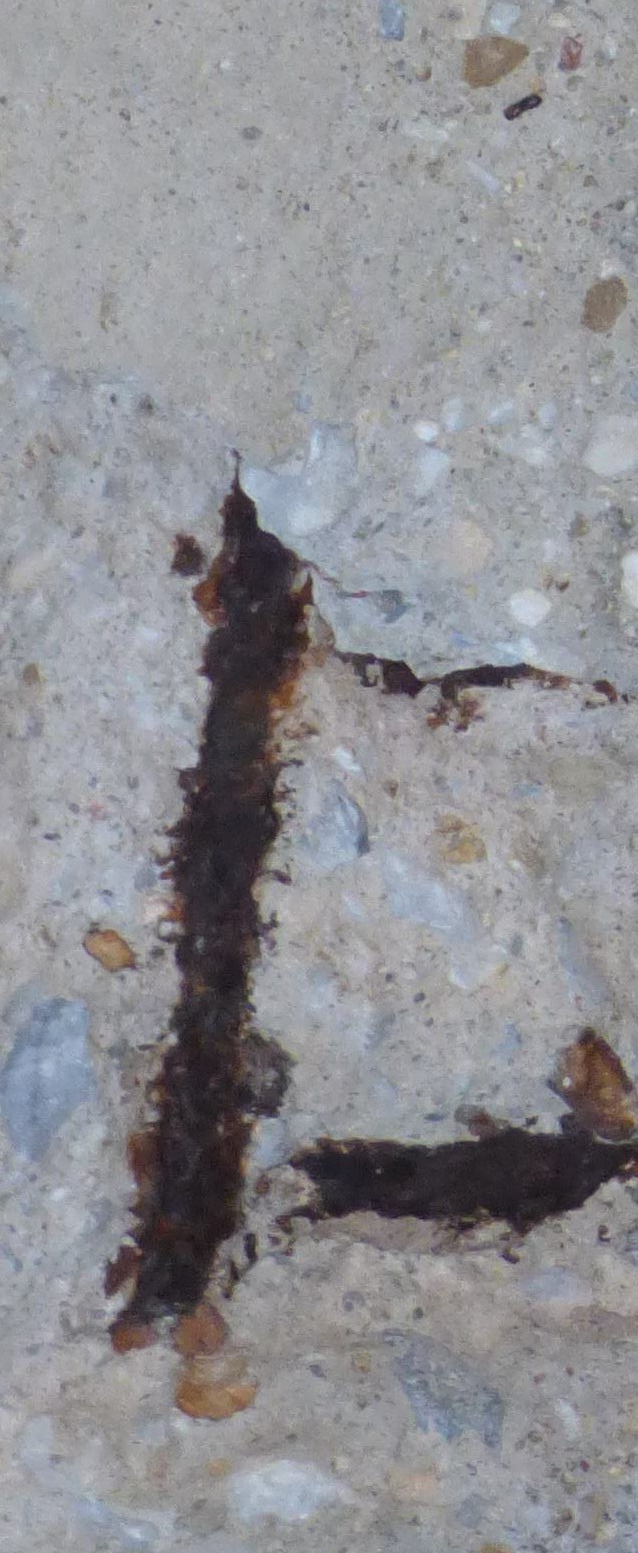Exposed reinforcement: (107, 488, 313, 1332), (274, 1137, 638, 1237)
